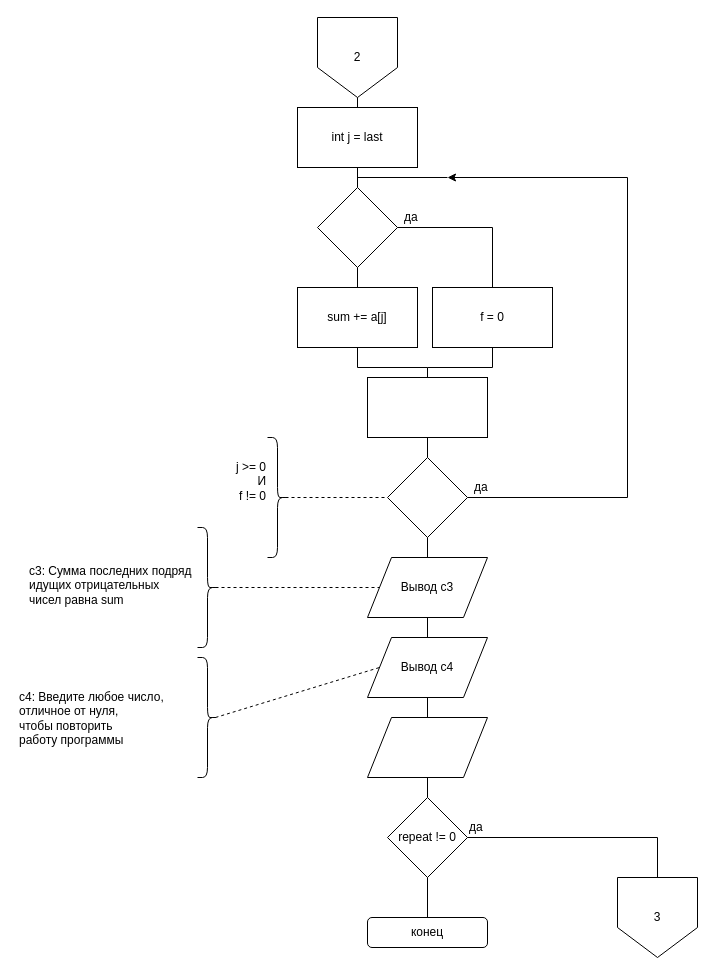
Some shapes in this 715 by 975 pixel diagram are drawn without their labels. Each missing label, with the box of its shape:
a[j] > 0: (316, 186, 398, 268)
j--: (366, 376, 488, 438)
Ввод repeat: (366, 716, 488, 778)
условие: (386, 456, 468, 538)
